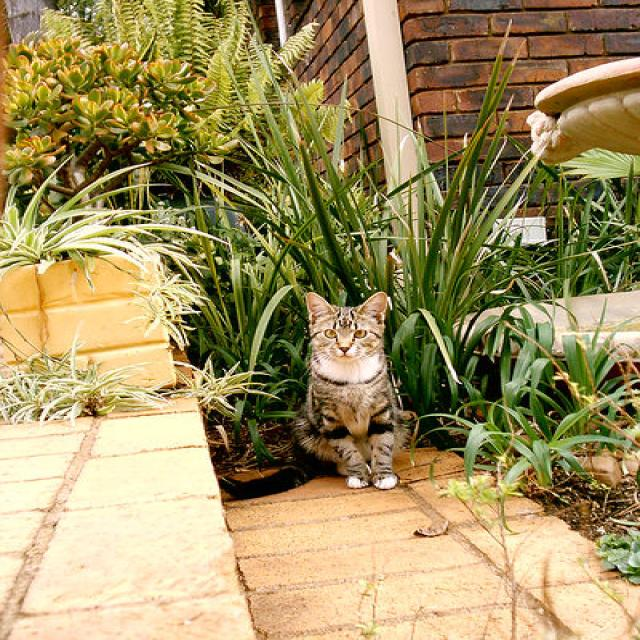left eye: (352, 328, 368, 338)
